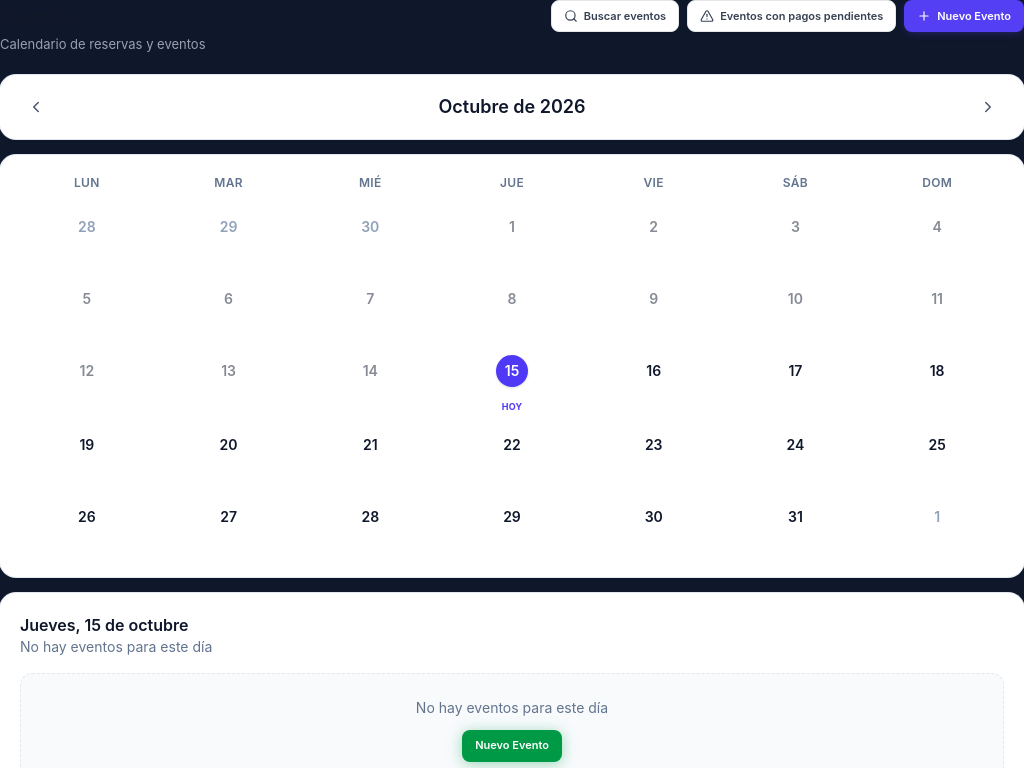
EventosPage › shows selector with the current month and opens the month/year popup
This screenshot has width=1024, height=768.
Click the button "Octubre de 2026": {"x": 512, "y": 106} [438,92,586,120]
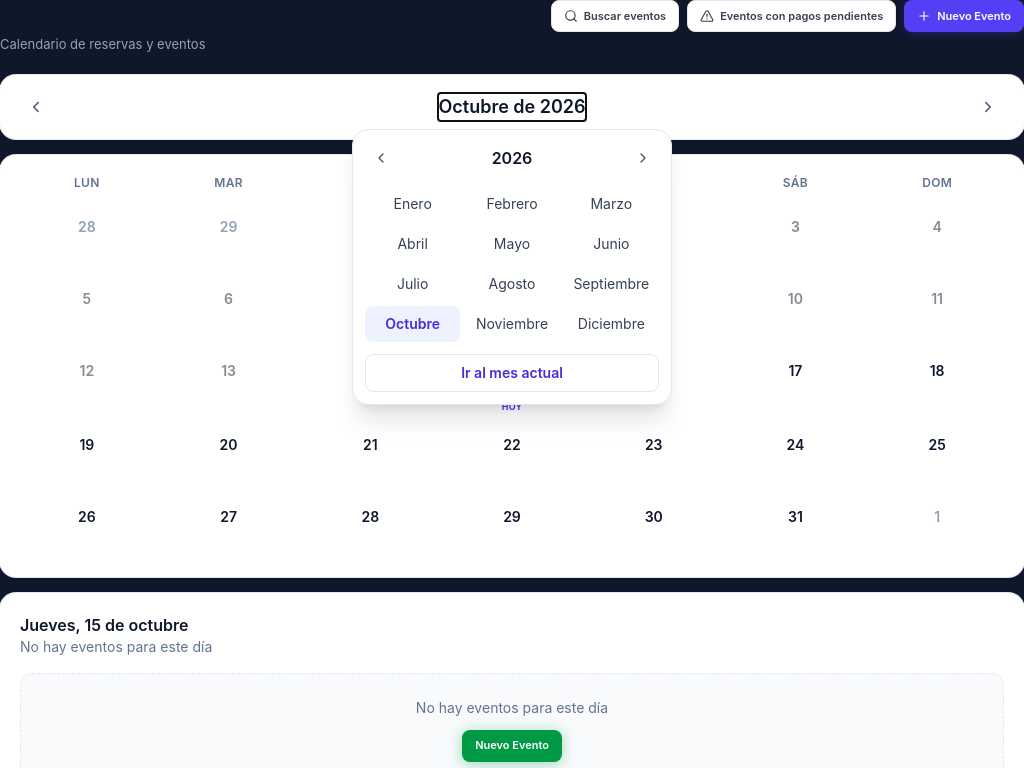
Check: the text "2026" is shown, box [492,146,532,170]
